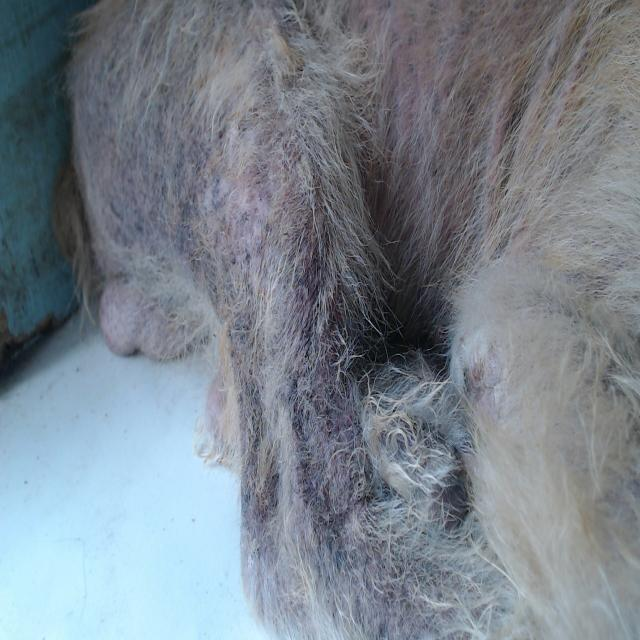demodicosis: (81, 66, 268, 279), (233, 318, 369, 597), (364, 2, 449, 124), (464, 331, 497, 412)
